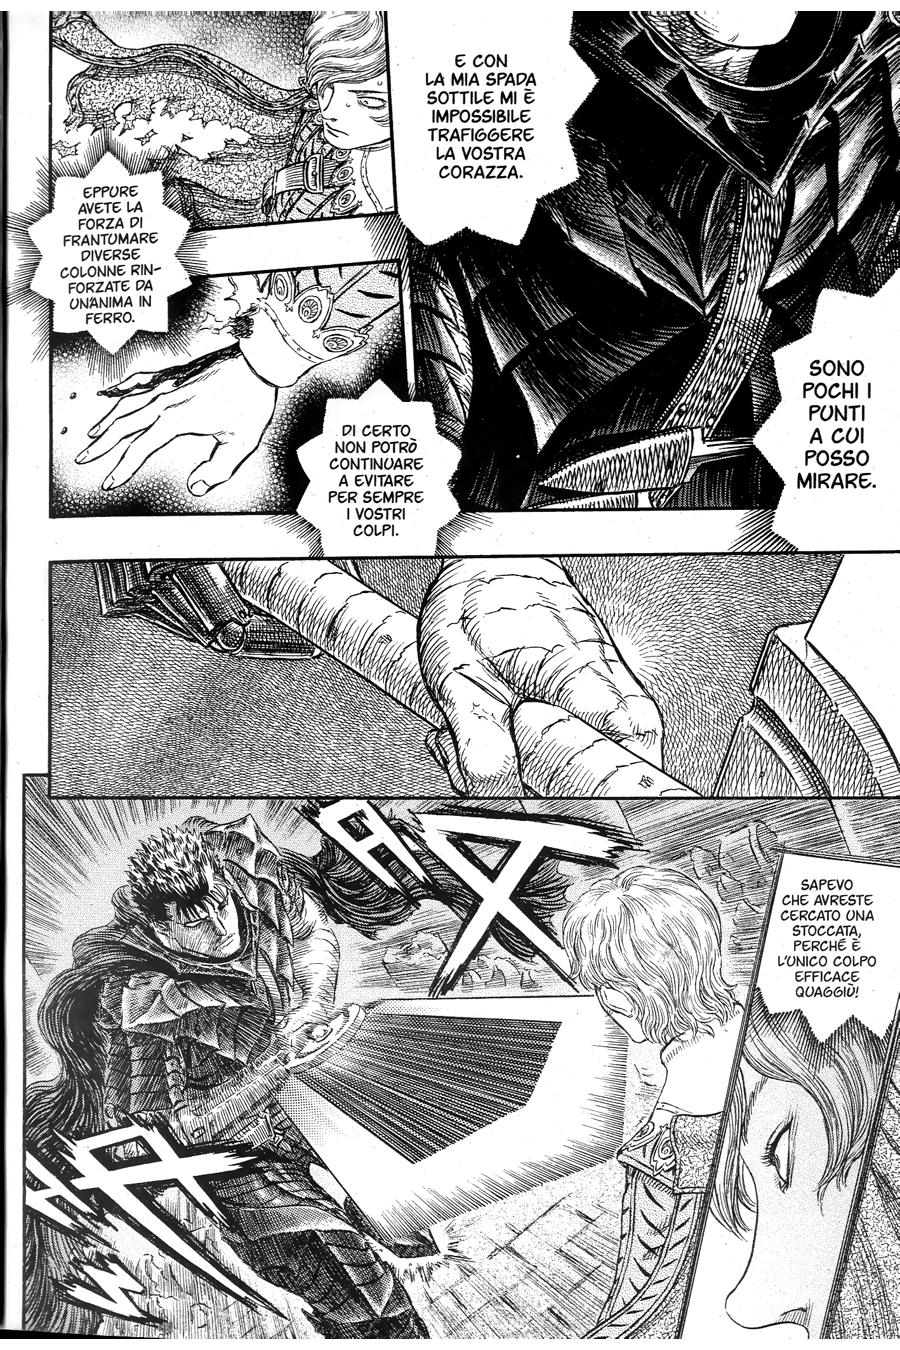Baloon: (402, 11, 600, 248), (755, 270, 900, 548), (28, 152, 198, 354), (298, 377, 463, 558), (759, 850, 900, 1034)
Vignetta: (24, 795, 900, 1332), (402, 17, 900, 514), (46, 550, 900, 801), (49, 260, 404, 517), (51, 13, 400, 223)
